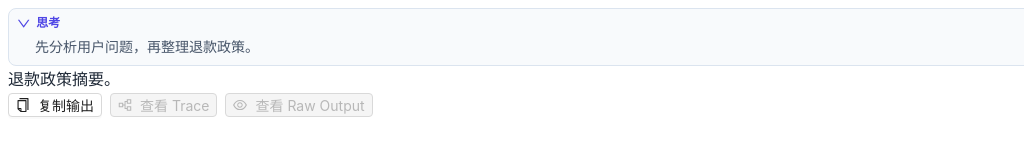
Test: DebugAssistantMessage › renders streamed reasoning in a collapsible labeled section
Expected: the text "先分析用户问题，再整理退款政策。" is shown, [35,40,259,55]
Expected: the text "退款政策摘要。" is shown, [8,71,120,88]
Click the button "思考" at {"x": 39, "y": 23}, box [17,15,60,32]
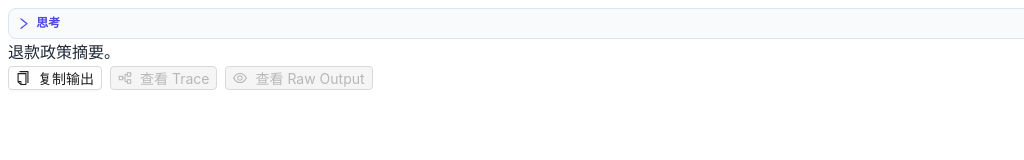
Expected: the text "退款政策摘要。" is shown, [8,44,120,61]
Result: the button "思考" is collapsed at [17,15,60,32]
Result: the text "先分析用户问题，再整理退款政策。" is gone
